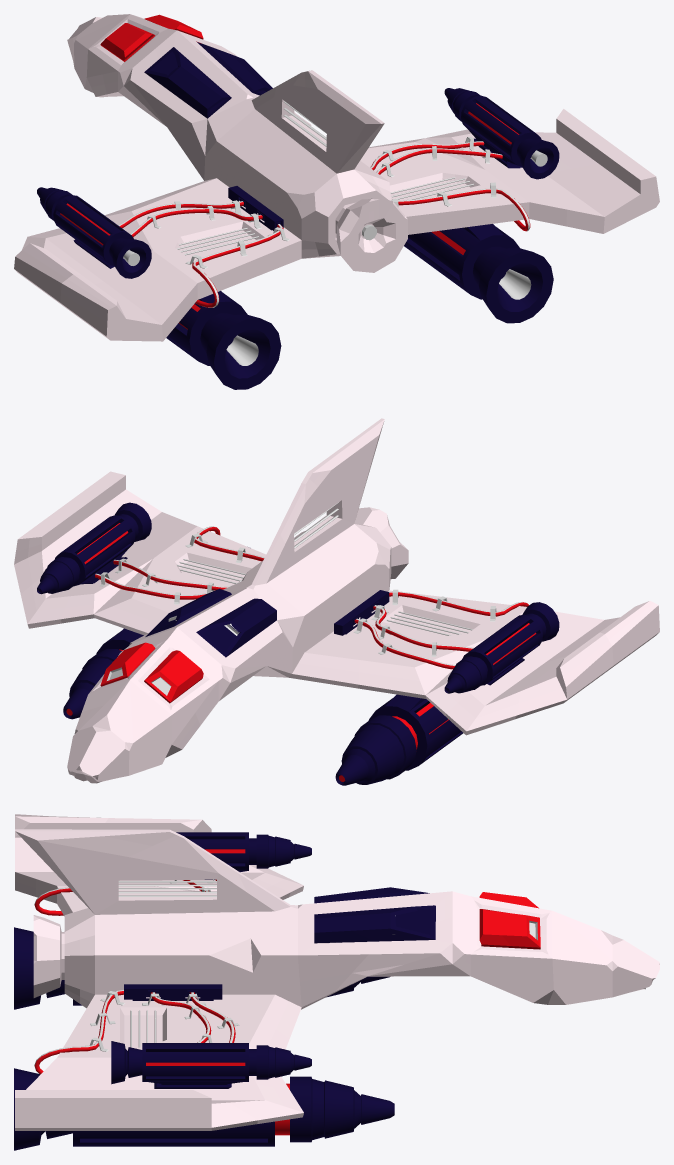
File: scout_ship_01.glb
3 views of the same model, one above another, from view 1: azimuth 30°, elevation 25°; view 2: azimuth 150°, elevation 25°; view 3: azimuth 270°, elevation 25° (orthographic). The views are drawn at different scales.
Visible parts, largest first — view 1: SCOUT_SHIP_BODY, ROCKETS, ROOF_SCANNER, CABLES, GLARE_ROCKET_ENGINE, FRONT_VIEWER, GLARE_RADIATOR, GLARE_CABLES, CABLE_HOLDER, SOCKETS, GLARE_ROCKET_PROPS; view 2: SCOUT_SHIP_BODY, ROCKETS, ROOF_SCANNER, CABLES, FRONT_VIEWER, GLARE_RADIATOR, CABLE_HOLDER, GLARE_CABLES, SOCKETS, GLARE_ROCKET_PROPS; view 3: SCOUT_SHIP_BODY, ROCKETS, ROOF_SCANNER, FRONT_VIEWER, CABLES, SOCKETS, GLARE_RADIATOR, GLARE_ROCKET_PROPS, CABLE_HOLDER, GLARE_CABLES.
Boxes of the visible parts, box(x1,y1,x2,y2) form: SCOUT_SHIP_BODY: box(14, 14, 659, 341); ROCKETS: box(37, 88, 559, 389); ROOF_SCANNER: box(144, 42, 272, 118); CABLES: box(119, 142, 530, 307); GLARE_ROCKET_ENGINE: box(123, 150, 547, 365); FRONT_VIEWER: box(100, 14, 203, 61); GLARE_RADIATOR: box(177, 101, 473, 255); GLARE_CABLES: box(118, 141, 529, 307); CABLE_HOLDER: box(147, 137, 496, 268); SOCKETS: box(228, 186, 283, 230); GLARE_ROCKET_PROPS: box(60, 103, 519, 329); SCOUT_SHIP_BODY: box(14, 418, 659, 783); ROCKETS: box(37, 502, 559, 785); ROOF_SCANNER: box(145, 588, 276, 657); CABLES: box(95, 527, 528, 669); FRONT_VIEWER: box(100, 642, 203, 703); GLARE_RADIATOR: box(177, 502, 472, 635); CABLE_HOLDER: box(99, 533, 496, 656); GLARE_CABLES: box(95, 526, 526, 665); SOCKETS: box(334, 590, 389, 635); GLARE_ROCKET_PROPS: box(66, 523, 536, 781); SCOUT_SHIP_BODY: box(15, 814, 659, 1130); ROCKETS: box(14, 832, 394, 1150); ROOF_SCANNER: box(314, 887, 435, 943); FRONT_VIEWER: box(479, 892, 540, 949); CABLES: box(34, 879, 235, 1074); SOCKETS: box(124, 984, 222, 1000); GLARE_RADIATOR: box(118, 881, 216, 1047); GLARE_ROCKET_PROPS: box(146, 849, 289, 1135); CABLE_HOLDER: box(85, 879, 239, 1051); GLARE_CABLES: box(34, 880, 234, 1073).
Size of the model in its own units: 2.72 by 1.09 by 2.6.
